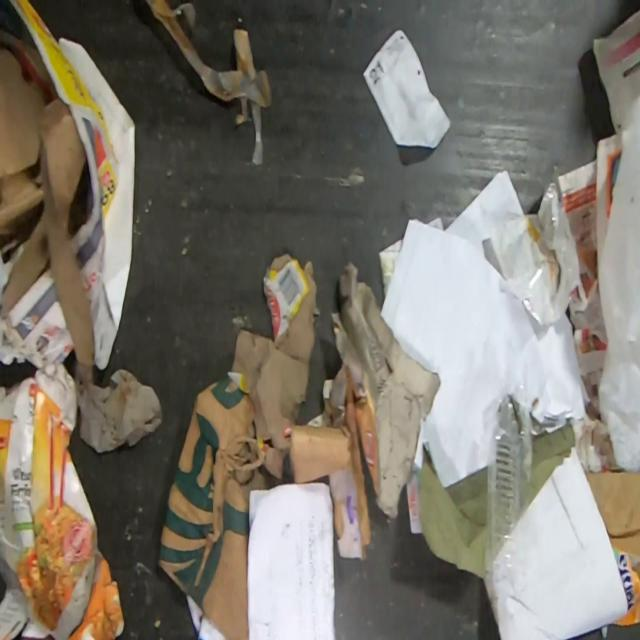cardboard: (289, 260, 441, 560), (0, 361, 126, 639), (0, 28, 95, 368), (223, 252, 322, 480)
rigid_plastic: (485, 392, 534, 584)
soft_plastic: (596, 94, 640, 472), (481, 181, 582, 327)
